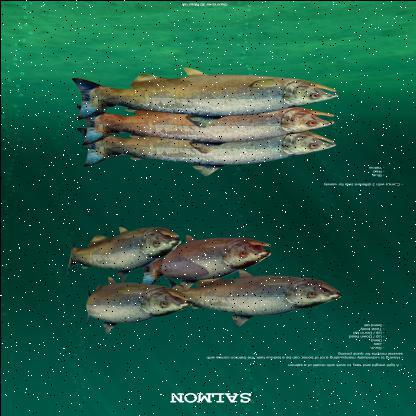fish: (73, 66, 341, 122), (82, 124, 340, 176), (76, 102, 336, 152), (158, 268, 342, 324), (140, 233, 272, 289), (78, 275, 196, 333), (61, 226, 183, 278)
